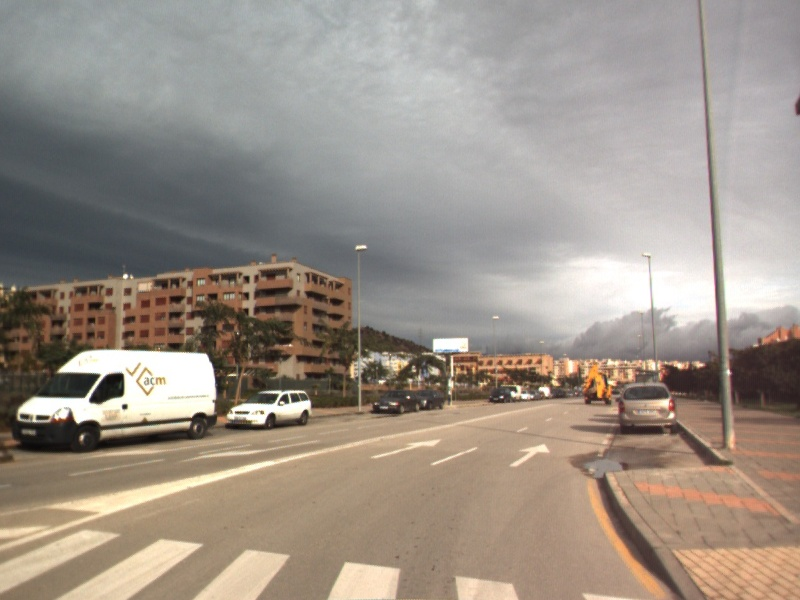STRAIGHT: (369, 437, 444, 460), (508, 442, 552, 469)
